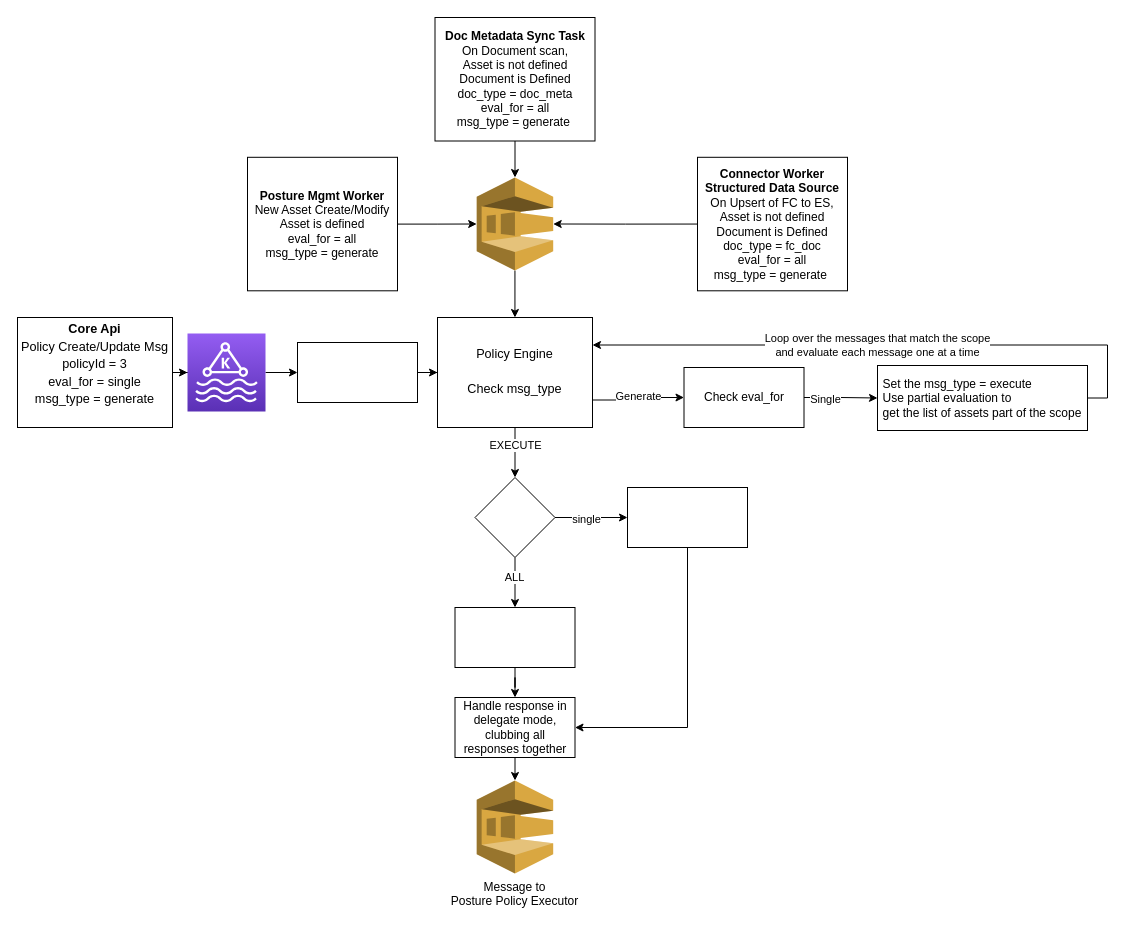
Image size: 1133x927. Some labels were removed from this diagram. Each missing label, with the box of its shape:
eval_for: (474, 476, 555, 558)
Evaluate the messages in loop on the list of policies that match: (454, 606, 575, 668)
Evaluation against the single policy: (626, 486, 748, 548)
Kafka: (186, 332, 266, 412)
Policy Update Handler Update policy in cache and evaluate: (296, 342, 418, 402)
